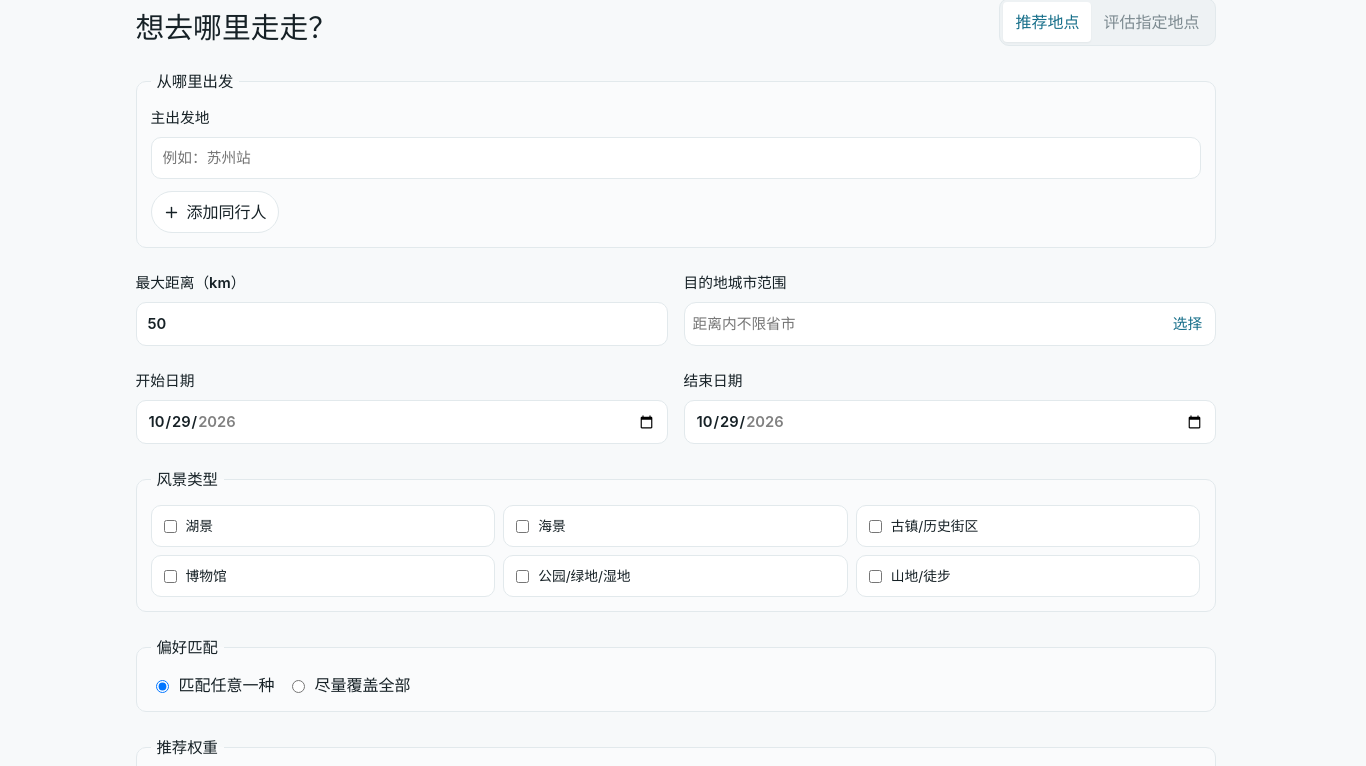
unconfirmed_region_text_blocks_submit
The image size is (1366, 766).
Type "杭" into the dropdown named "目的地城市范围" at point(927, 324), box [692,313,1162,335]
(page scrolled)
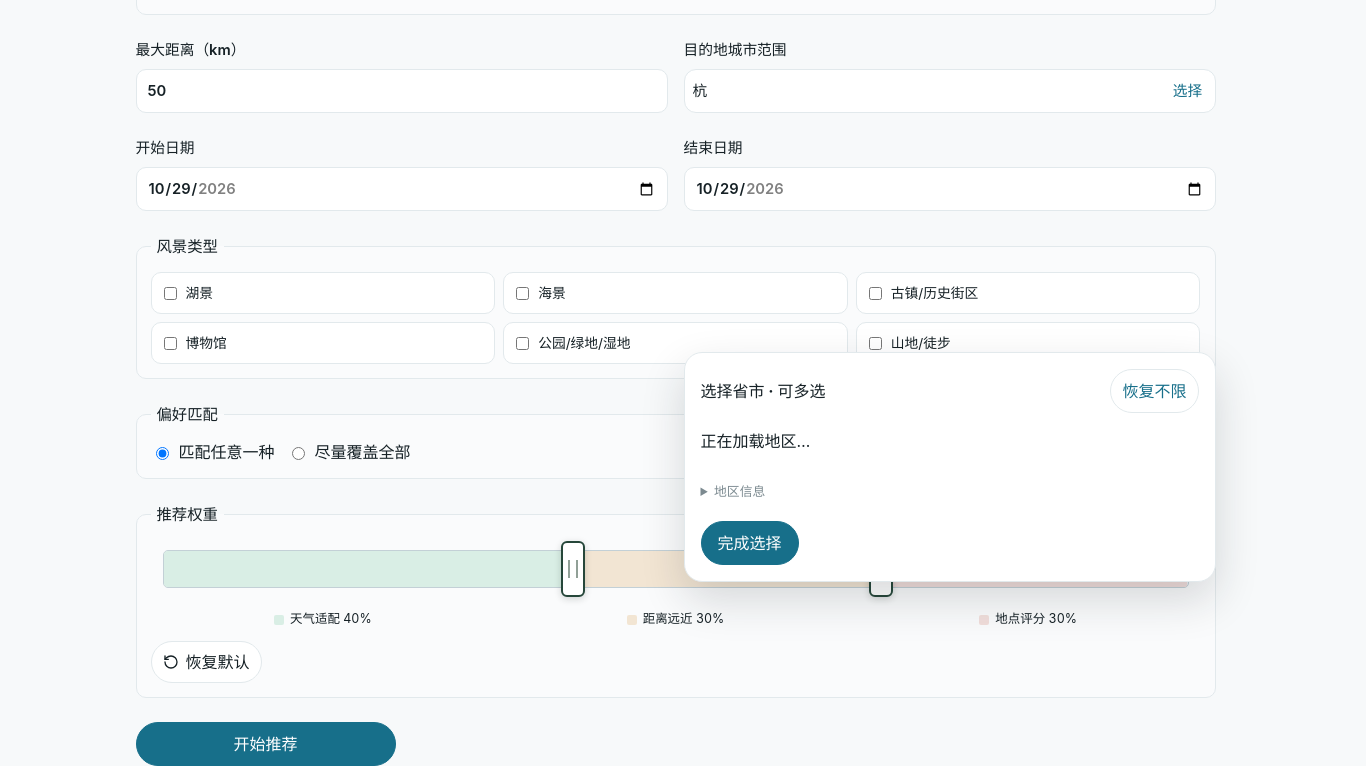
Click the button "开始推荐" at point(266, 744), box [136,722,396,765]
(page scrolled)
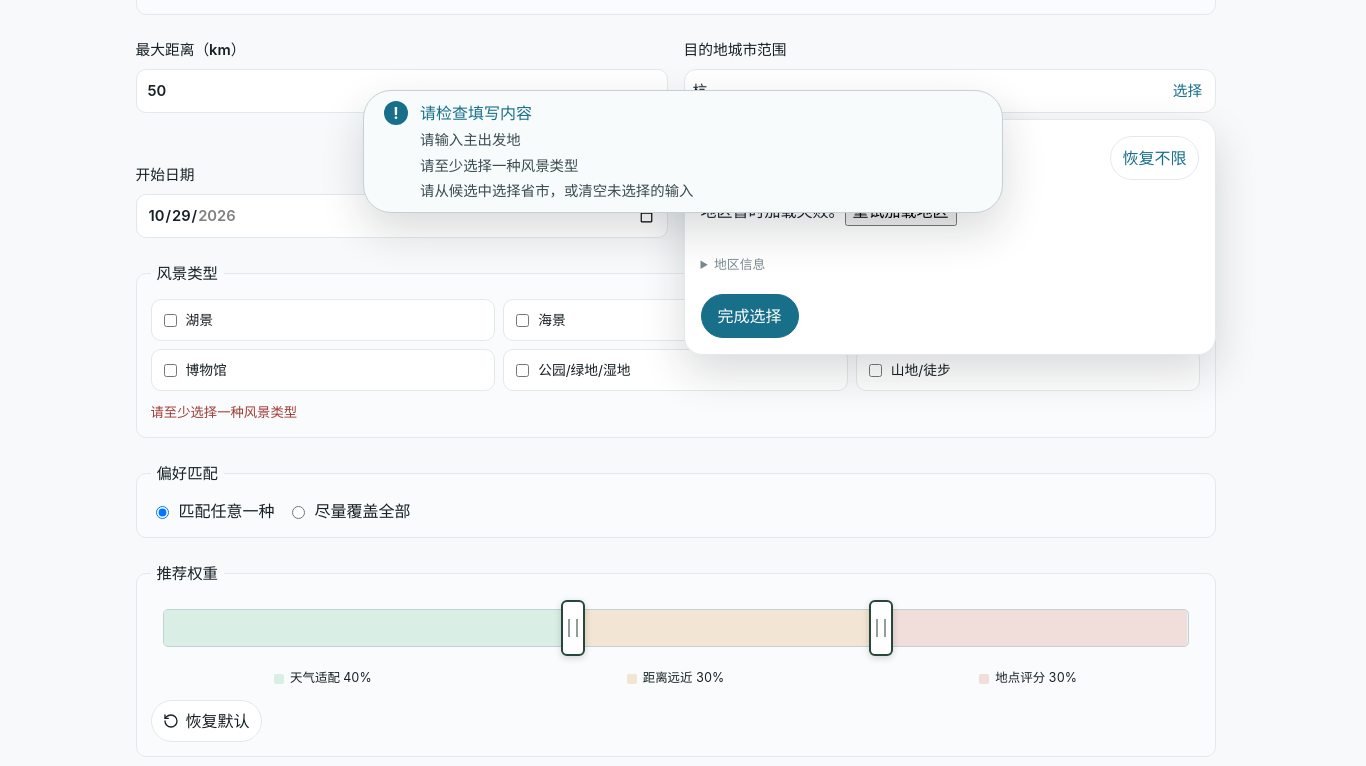
Now the message shows "请从候选中选择省市，或清空未选择的输入", box [420,182,693,199]
